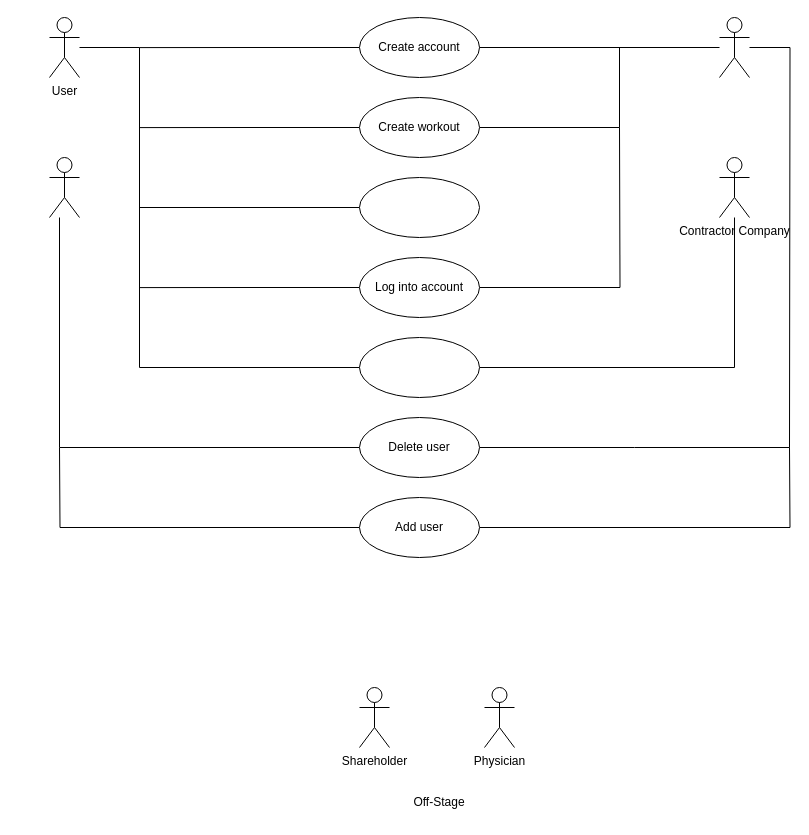
Some shapes in this 809 by 835 pixel diagram are drawn without their labels. The shapes that lost their labels are listed below. From the top down, each one's centre as x and y in pixels, then its label:
At (734,47): "Firebase".
At (64,187): "Application Admin".
At (419,207): "Track calories".
At (419,367): "Change language".
